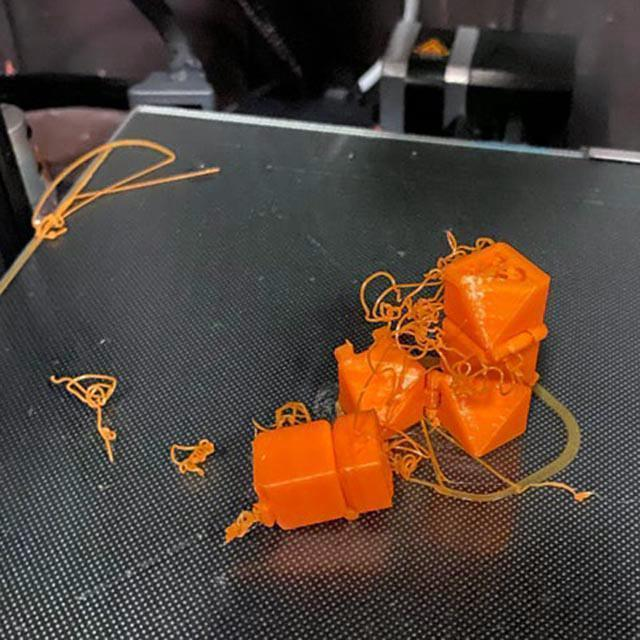spaghetti: (360, 231, 548, 397), (32, 141, 220, 242), (49, 371, 125, 465), (387, 424, 433, 480)
